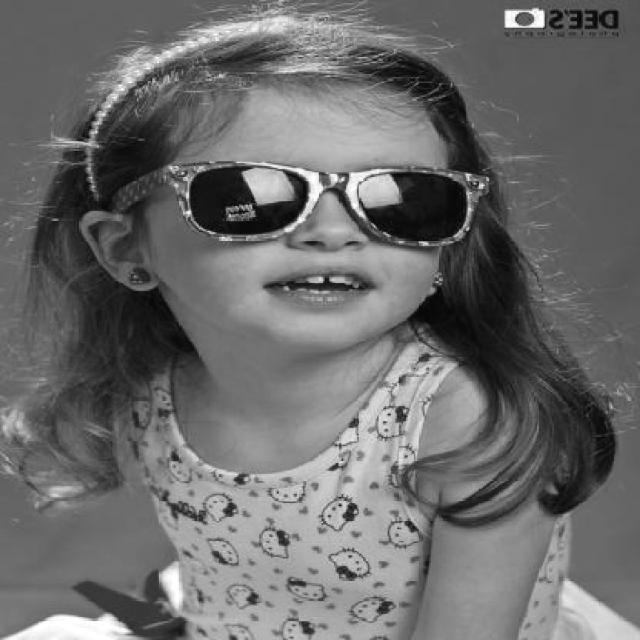face_nomask: (181, 158, 473, 332)
glasses: (113, 150, 499, 238)
head_nohelmet: (105, 30, 461, 128)
person: (45, 20, 597, 640)
